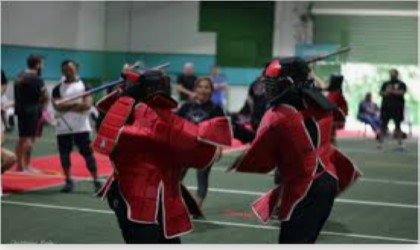baston_e: (64, 64, 173, 105), (308, 44, 346, 65)
baston_v: (343, 42, 354, 52), (164, 59, 175, 68), (51, 99, 61, 107)
